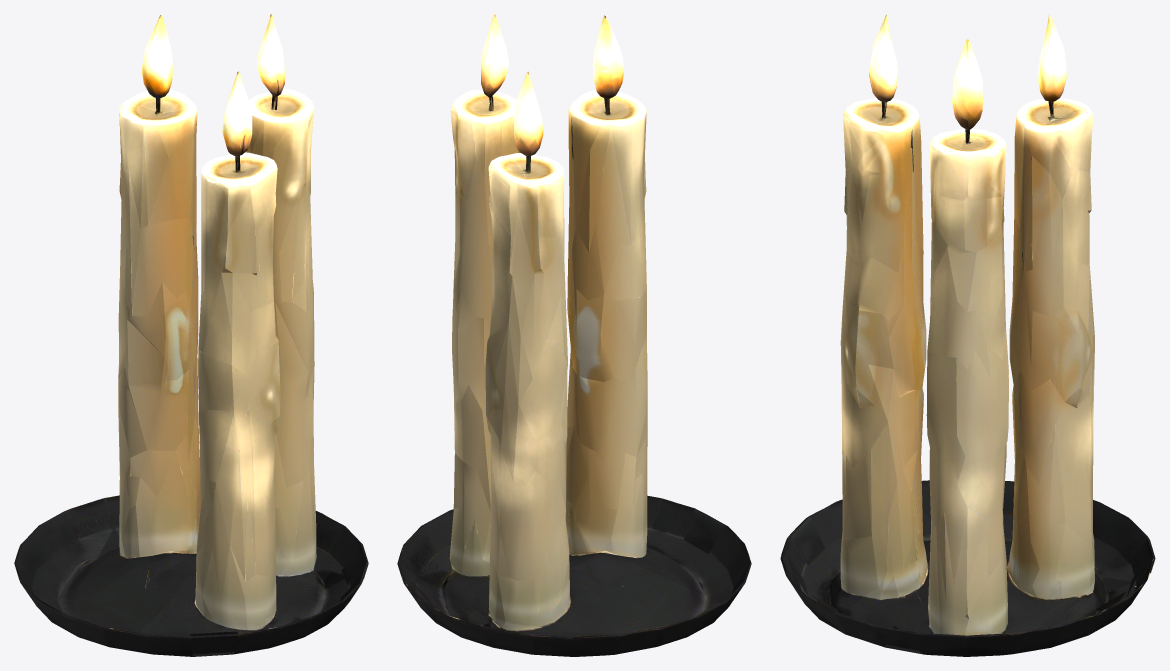
File: candles.glb
3 renders of one model, left to right at view 1: azimuth 30°, elevation 25°; view 2: azimuth 150°, elevation 25°; view 3: azimuth 270°, elevation 25°, orthographic. The views are drawn at different scales.
Bounding box in the file's own units: 0.1699 × 0.3 × 0.17.
Materials: 1 (1 with a texture image).
